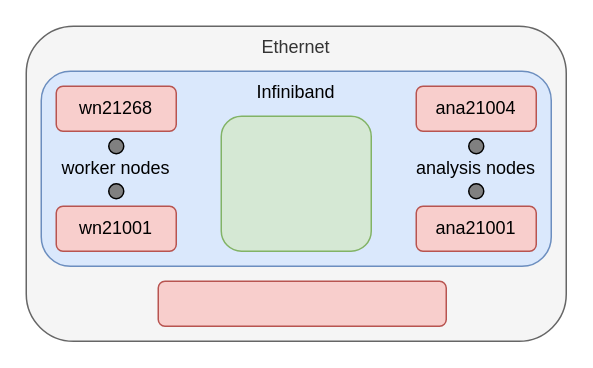
Image size: 593x368. Some labels were removed from this diagram. Each missing label, with the centre of its shape:
login nodes [fugg1, fugg2]: (x=301, y=303)
parallel file system [/beegfs]: (x=295, y=183)
